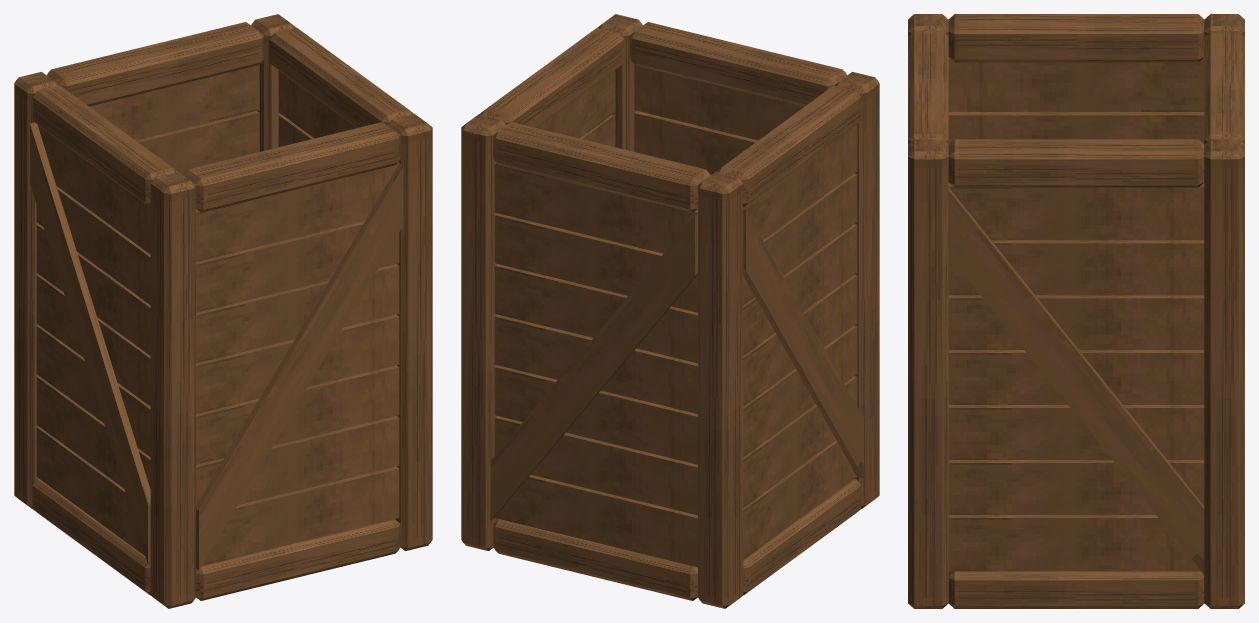
Rendered from openCrate_tall.glb.
3 renders of one model, left to right at view 1: azimuth 30°, elevation 25°; view 2: azimuth 150°, elevation 25°; view 3: azimuth 270°, elevation 25°, orthographic. The views are drawn at different scales.
Visible parts, largest first — view 1: openCrate_tall; view 2: openCrate_tall; view 3: openCrate_tall.
Boxes of the visible parts, x1=… form: openCrate_tall: x1=14, y1=14, x2=432, y2=608; openCrate_tall: x1=461, y1=14, x2=879, y2=608; openCrate_tall: x1=908, y1=14, x2=1244, y2=608.
Bounding box in the file's own units: 1 × 1.5 × 1.
1 material, 1 textured.
